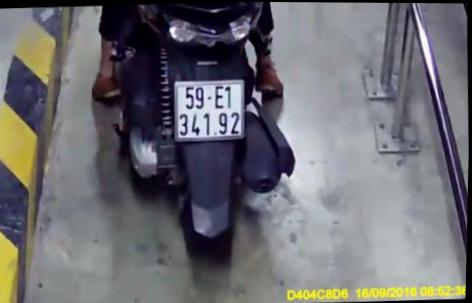LP: (173, 76, 248, 143)
